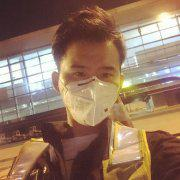OK: (62, 62, 121, 129)
